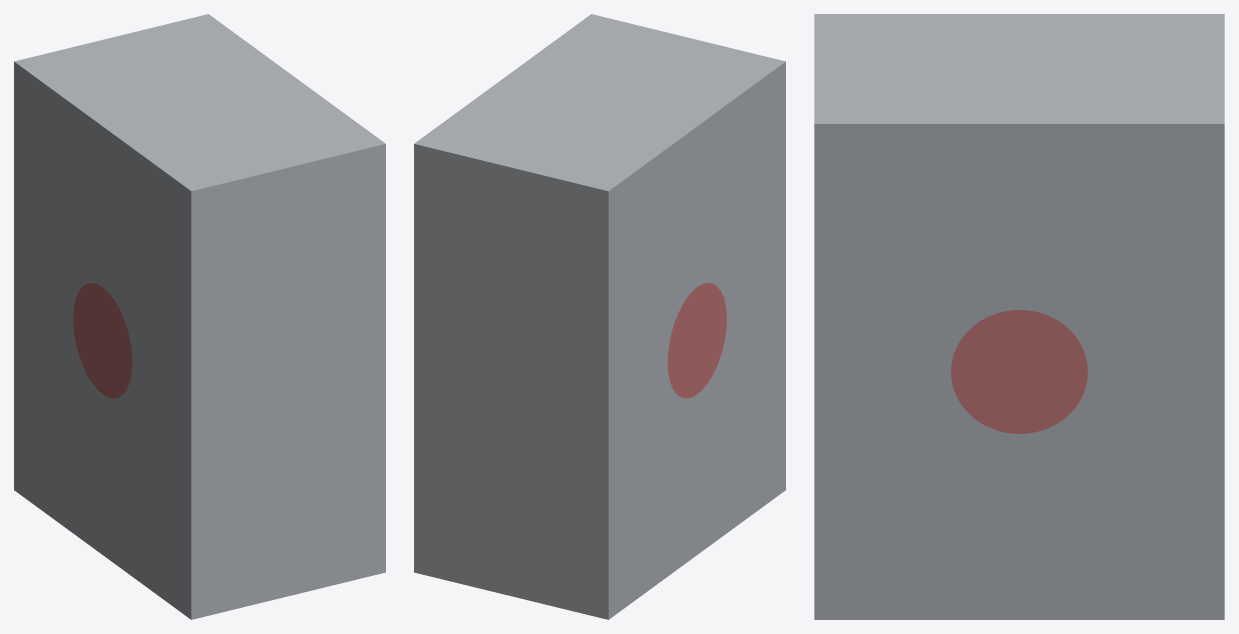
File: step_02.glb
3 renders of one model, left to right at view 1: azimuth 30°, elevation 25°; view 2: azimuth 150°, elevation 25°; view 3: azimuth 270°, elevation 25°, orthographic. The views are drawn at different scales.
Visible parts, largest first — view 1: part__belt anchor, removed__belt anchor; view 2: part__belt anchor, removed__belt anchor; view 3: part__belt anchor, removed__belt anchor.
Boxes of the visible parts, x1,y1,x2,y2 form: part__belt anchor: (14, 14, 385, 619); removed__belt anchor: (73, 283, 132, 398); part__belt anchor: (414, 14, 785, 619); removed__belt anchor: (667, 283, 726, 398); part__belt anchor: (814, 14, 1224, 619); removed__belt anchor: (951, 310, 1087, 433).
Size of the model in its own units: 19 by 40 by 30.
